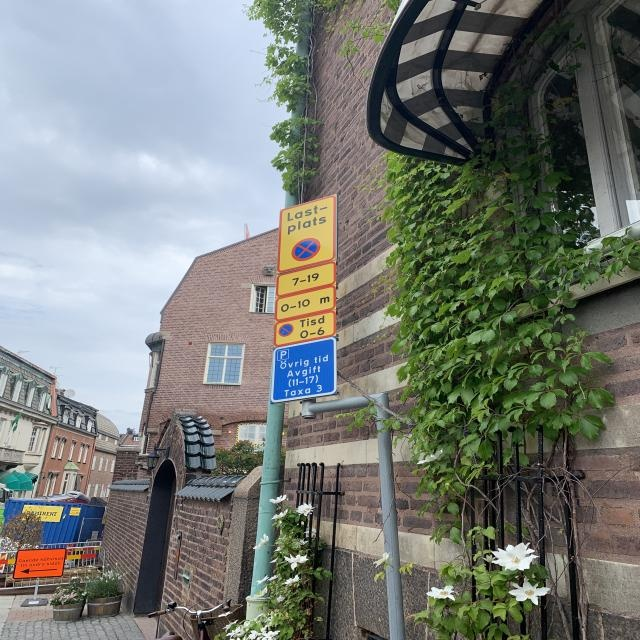lastplats: (273, 192, 340, 275)
